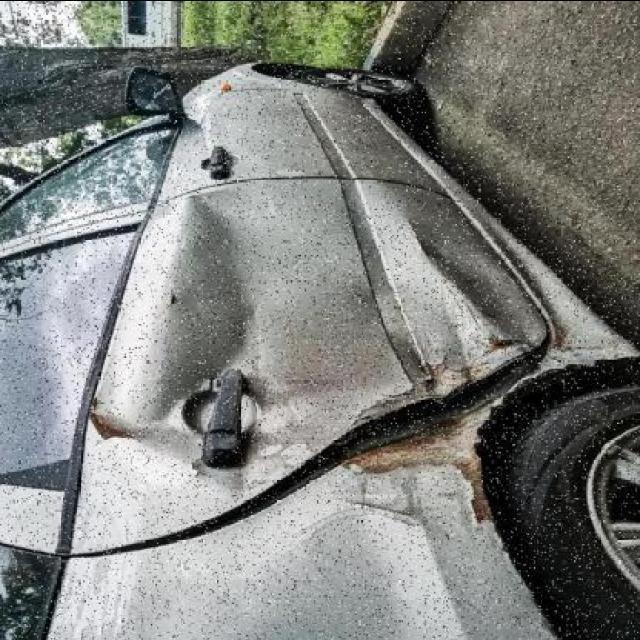RunningBoard-Dent: (517, 208, 639, 374)
doorouter-dent: (79, 180, 478, 469)
quaterpanel-dent: (338, 448, 639, 640)
